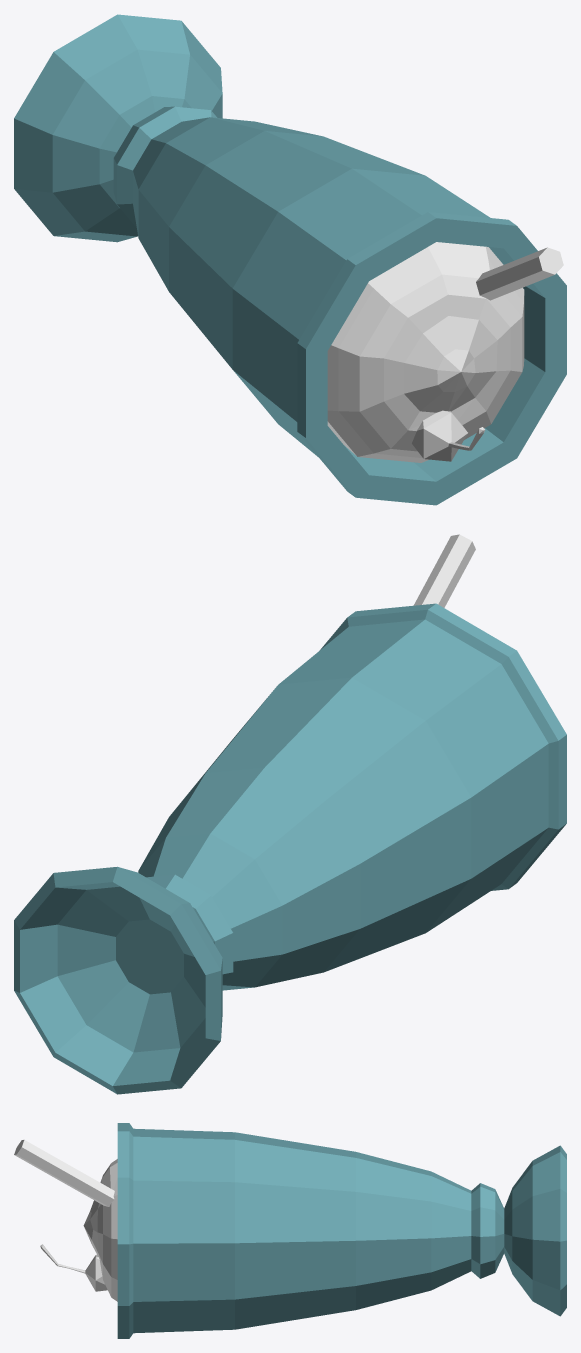
Rendered from Milkshake.fbx.
3 views of the same model, one above another, from view 1: azimuth 30°, elevation 25°; view 2: azimuth 150°, elevation 25°; view 3: azimuth 270°, elevation 25° (orthographic). The views are drawn at different scales.
Parts seen in each view (by area): view 1: Milkshake.003, Milkshake, Milkshake.004, Milkshake.005, Milkshake.006, Milkshake.007, Milkshake.001, Milkshake.002; view 2: Milkshake, Milkshake.007, Milkshake.005, Milkshake.003, Milkshake.004, Milkshake.006, Milkshake.001, Milkshake.002; view 3: Milkshake.003, Milkshake.004, Milkshake.005, Milkshake.007, Milkshake.006, Milkshake, Milkshake.001, Milkshake.002.
Part boxes in pixels (x1,y1,x2,y2): Milkshake.003: (276,199,566,505); Milkshake: (14,14,222,242); Milkshake.004: (232,168,472,456); Milkshake.005: (200,149,424,369); Milkshake.006: (169,131,373,329); Milkshake.007: (138,117,321,291); Milkshake.001: (113,106,217,237); Milkshake.002: (461,247,563,450); Milkshake: (14,866,222,1094); Milkshake.007: (139,767,360,987); Milkshake.005: (205,677,471,952); Milkshake.003: (319,594,566,901); Milkshake.004: (279,641,520,932); Milkshake.006: (177,722,415,972); Milkshake.001: (138,833,282,990); Milkshake.002: (417,534,475,607); Milkshake.003: (68,1123,170,1338); Milkshake.004: (170,1130,234,1331); Milkshake.005: (235,1132,295,1329); Milkshake.007: (356,1152,431,1309); Milkshake.006: (295,1142,355,1319); Milkshake: (504,1145,566,1316); Milkshake.001: (431,1171,504,1290); Milkshake.002: (14,1139,85,1273).
Size of the model in its own units: 70.46 by 76.45 by 186.
